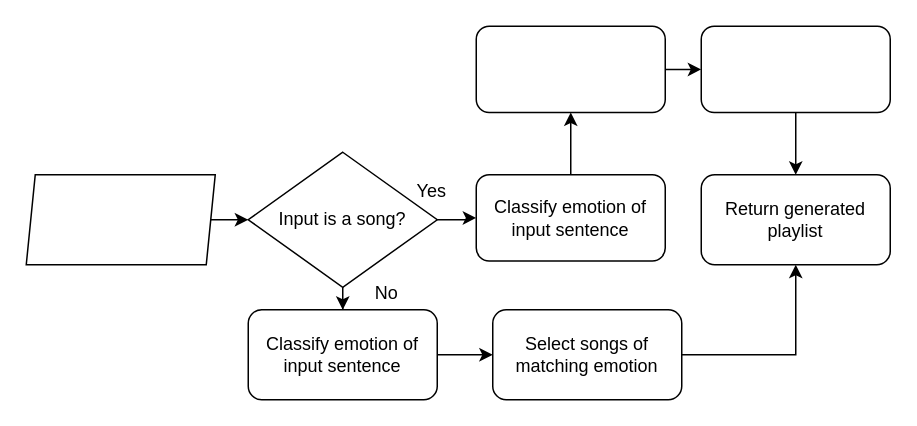
This 917x426 diagram has some shape labels left out. Each missing label, with the centre of its shape:
"Calculate similarity of songs using STS model" goes at pixel 570 68.
"Select the N most similar songs of the same emotion" goes at pixel 795 68.
"User inputs a song or a sentence" goes at pixel 120 219.
